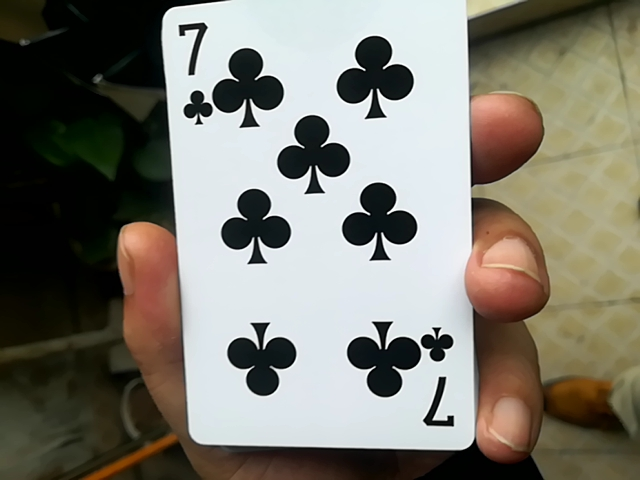mh 7: (142, 9, 472, 453)
